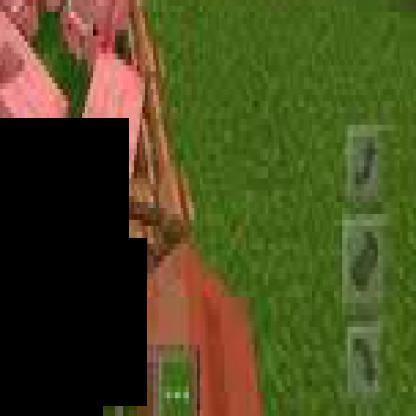minecraft-pigs: (65, 36, 150, 275), (0, 0, 77, 244), (57, 0, 156, 83)
